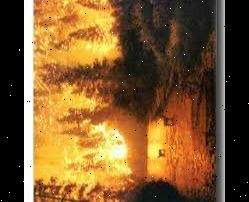fire: (32, 0, 140, 202)
